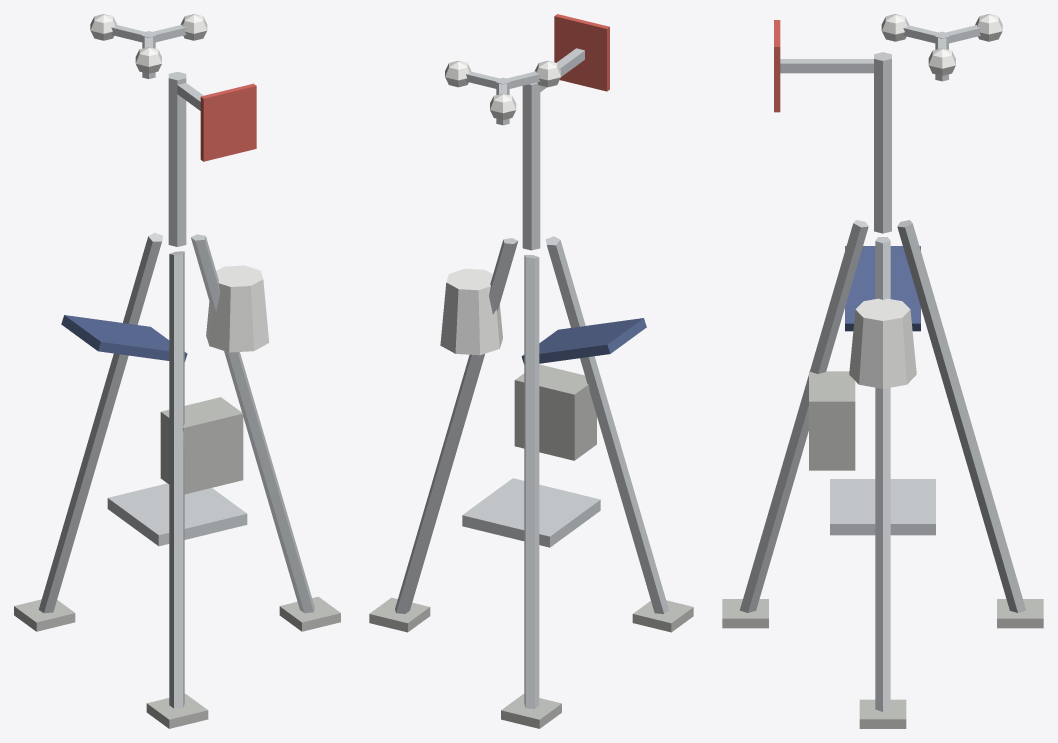
File: wind-and-solar-energy-farm-weather-station-95b8a0ca__34083.glb
3 renders of one model, left to right at view 1: azimuth 30°, elevation 25°; view 2: azimuth 150°, elevation 25°; view 3: azimuth 270°, elevation 25°, orthographic. The views are drawn at different scales.
Parts seen in each view (by area): view 1: weather-station, anemometer/white, anemometer/steel; view 2: weather-station, anemometer/white, anemometer/steel; view 3: weather-station, anemometer/white, anemometer/steel.
Boxes of the visible parts, <box> form: weather-station: <box>14,71,340,728</box>; anemometer/white: <box>90,14,207,73</box>; anemometer/steel: <box>111,24,186,78</box>; weather-station: <box>369,14,693,728</box>; anemometer/white: <box>445,60,560,119</box>; anemometer/steel: <box>466,71,540,125</box>; weather-station: <box>722,20,1043,728</box>; anemometer/white: <box>881,14,1002,75</box>; anemometer/steel: <box>903,25,980,81</box>.
Size of the model in its own units: 1.41 by 3.27 by 1.52.
